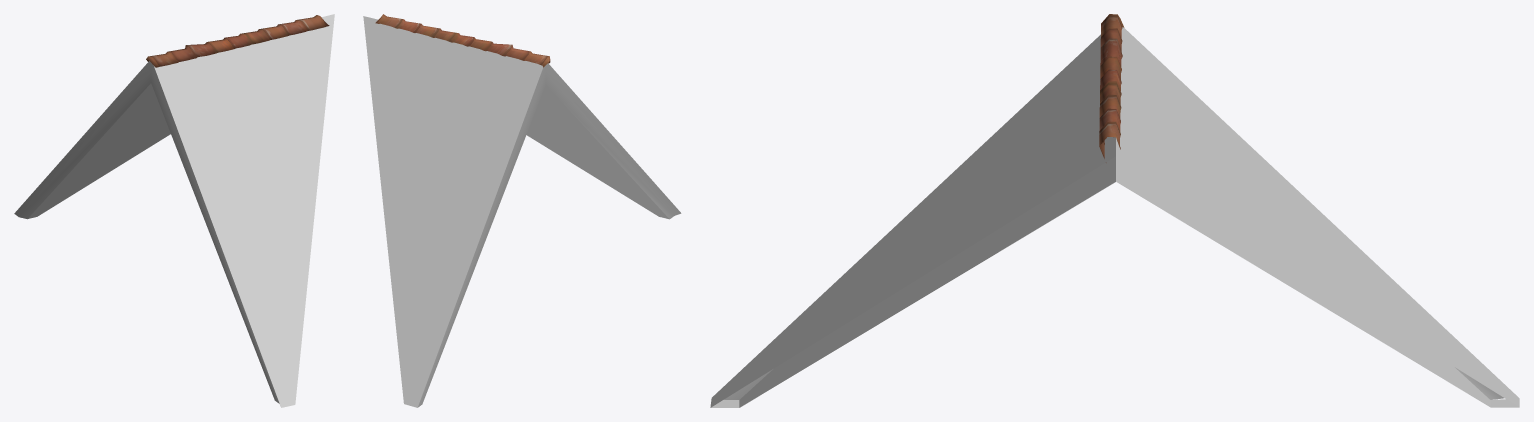
The model's file is SM_BlacksmithS_Roof_Connection.fbx.
The picture shows the model from 3 angles, left to right: view 1: azimuth 30°, elevation 25°; view 2: azimuth 150°, elevation 25°; view 3: azimuth 270°, elevation 25°; orthographic projection. The views are drawn at different scales.
Parts seen in each view (by area): view 1: SM_BlacksmithS_Roof_Connection_LOD0; view 2: SM_BlacksmithS_Roof_Connection_LOD0; view 3: SM_BlacksmithS_Roof_Connection_LOD0.
Part boxes in pixels (left/top/right/bottom): SM_BlacksmithS_Roof_Connection_LOD0: left=14, top=14, right=334, bottom=407; SM_BlacksmithS_Roof_Connection_LOD0: left=363, top=14, right=681, bottom=407; SM_BlacksmithS_Roof_Connection_LOD0: left=710, top=14, right=1519, bottom=407.
Size of what is drawn, in the model's own units: 3.79 by 4.96 by 9.34.
